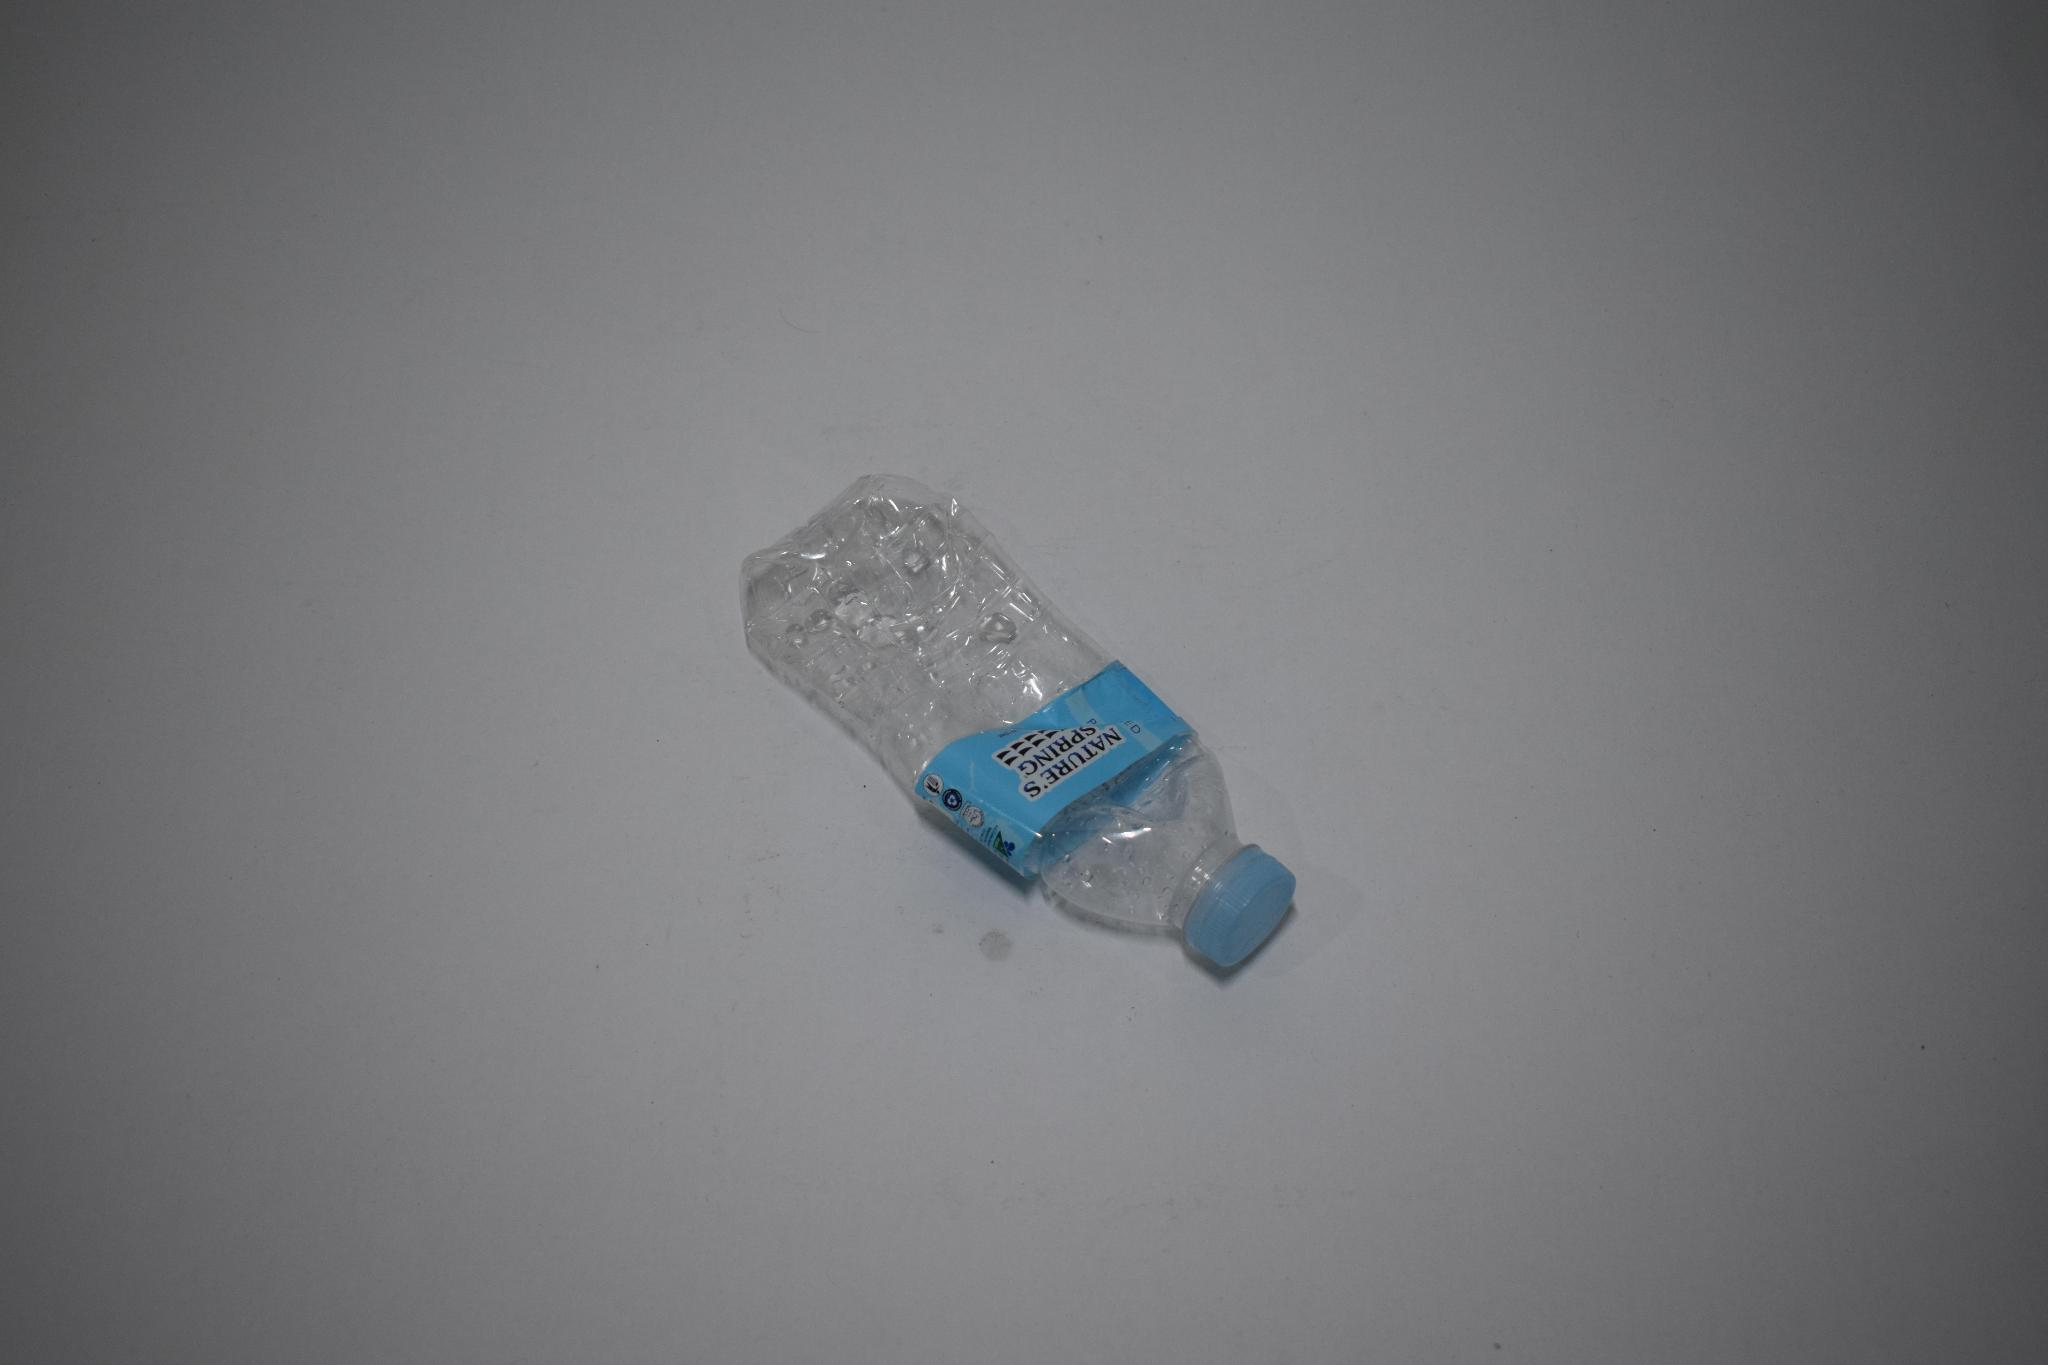bottle: (730, 470, 1298, 990)
